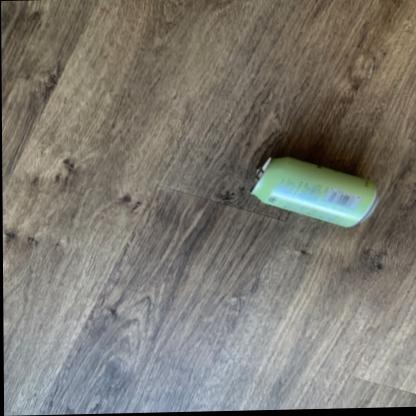trash: (251, 157, 376, 226)
